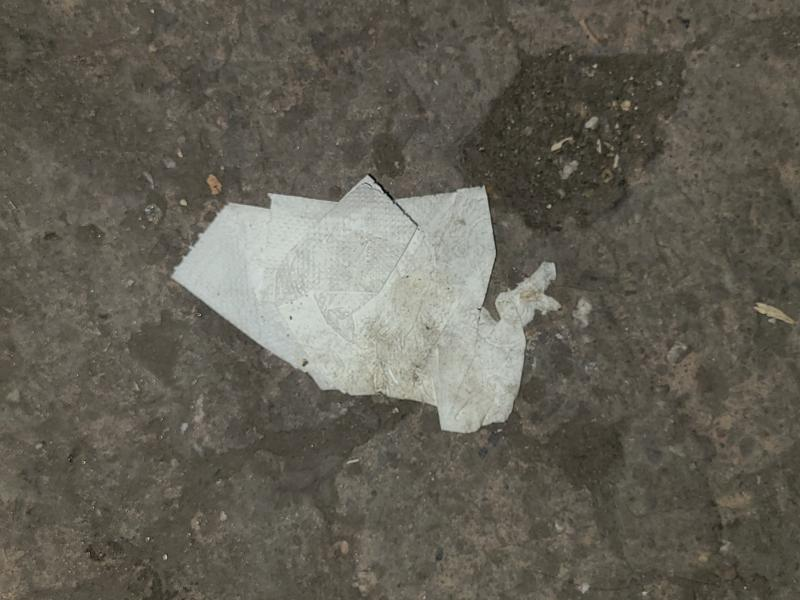papel: (171, 178, 555, 435)
